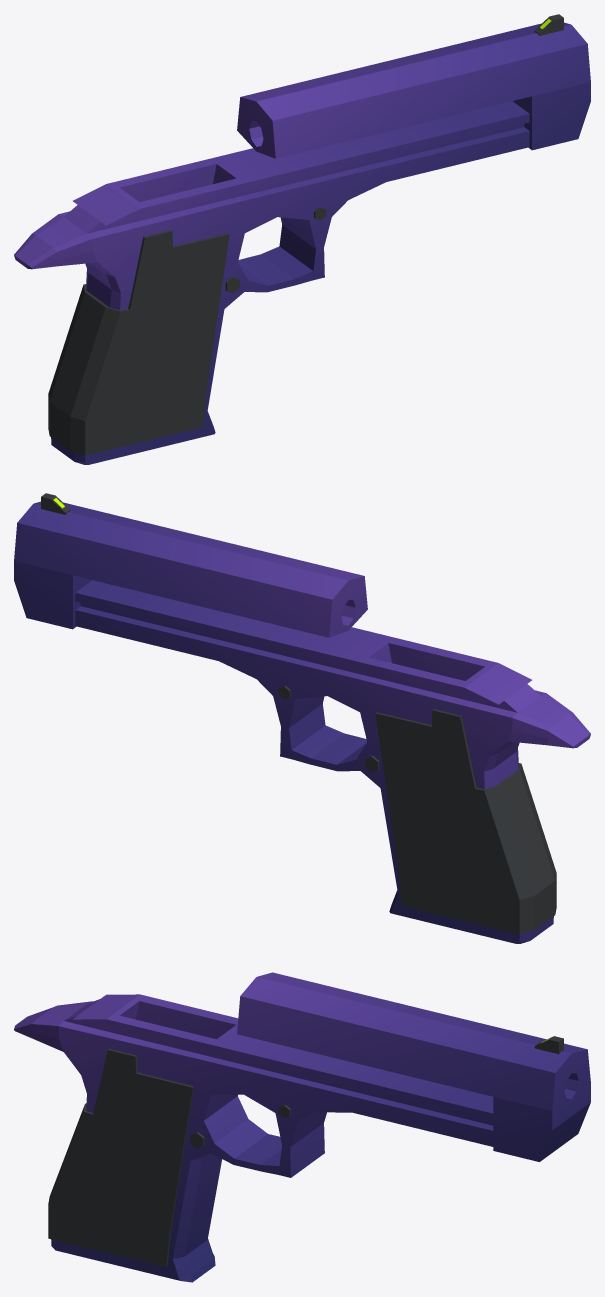
File: Pistol3_04.fbx
The picture shows the model from 3 angles, top to bottom: view 1: azimuth 30°, elevation 25°; view 2: azimuth 150°, elevation 25°; view 3: azimuth 330°, elevation 25°; orthographic projection.
Visible parts, largest first — view 1: Pistol3_04; view 2: Pistol3_04; view 3: Pistol3_04.
Part boxes in pixels (x1,y1,x2,y2): Pistol3_04: (14,14,590,464); Pistol3_04: (14,493,590,943); Pistol3_04: (14,972,590,1282).
Bounding box in the file's own units: 0.3445 × 0.1921 × 0.042.
